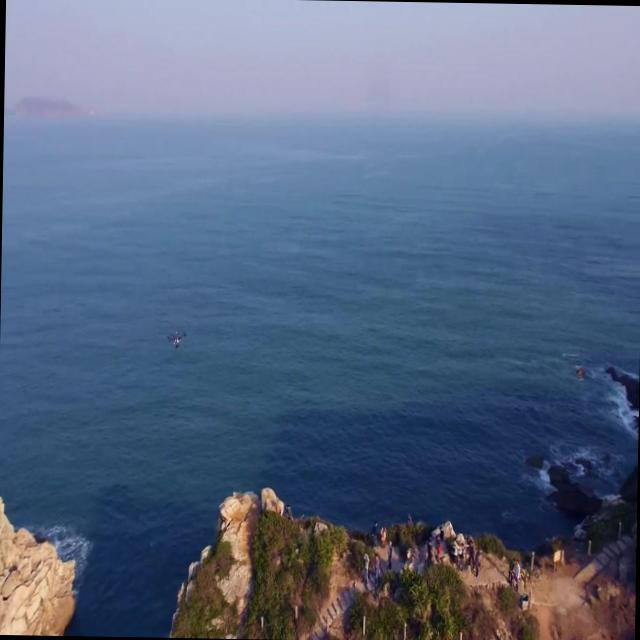drone: (165, 326, 188, 352)
